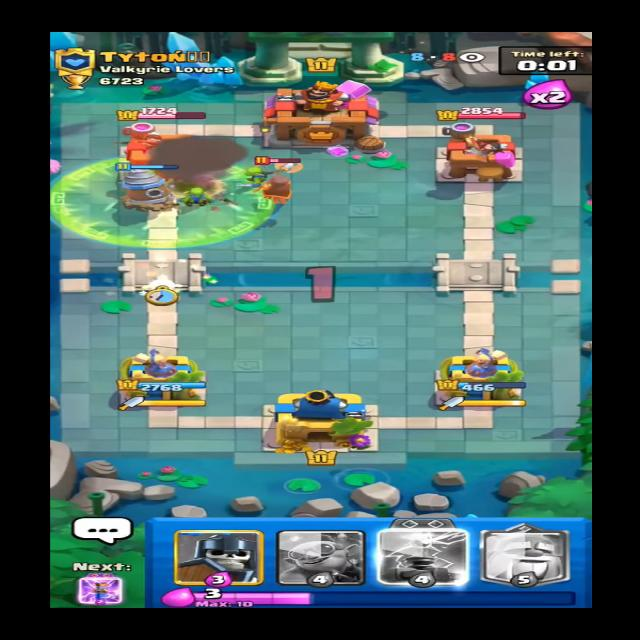Nightwitch: (252, 157, 302, 209)
